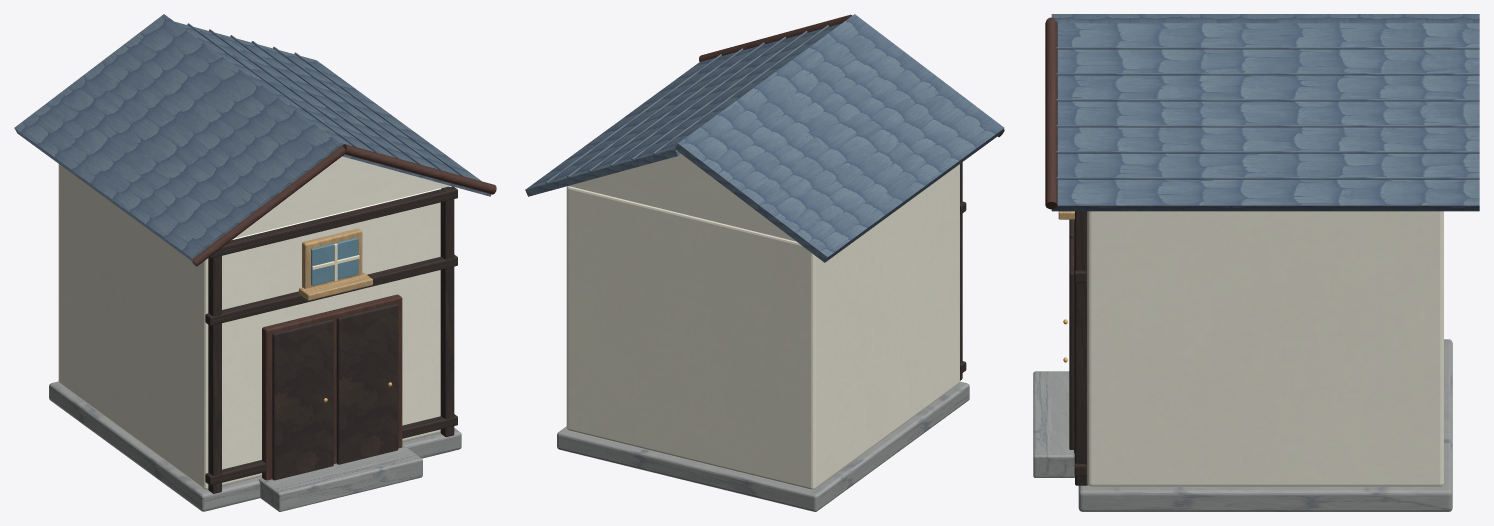
The model's file is rice_barn.glb.
3 renders of one model, left to right at view 1: azimuth 30°, elevation 25°; view 2: azimuth 150°, elevation 25°; view 3: azimuth 270°, elevation 25°, orthographic. The views are drawn at different scales.
Parts seen in each view (by area): view 1: rice_barn; view 2: rice_barn; view 3: rice_barn.
Part boxes in pixels (bbox=[...]): rice_barn: bbox=[14, 14, 496, 511]; rice_barn: bbox=[525, 14, 1004, 511]; rice_barn: bbox=[1033, 14, 1479, 511].
Size of the model in its own units: 4.53 by 4.94 by 4.76.
Materials: 3 (3 with a texture image).
